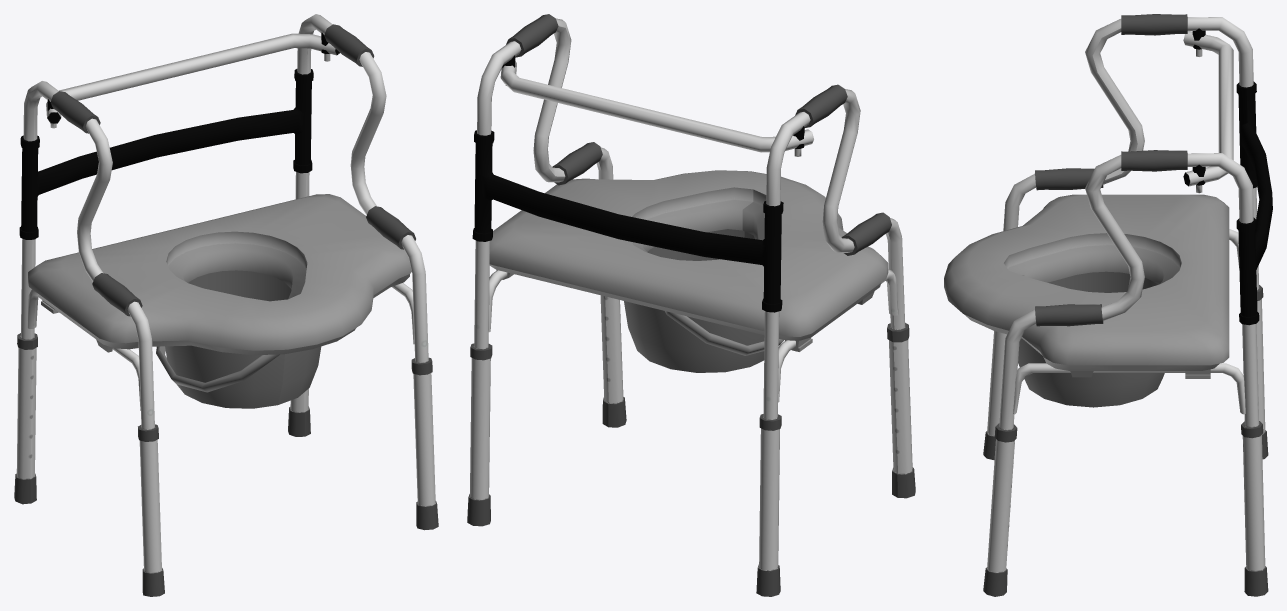
The model's file is bedside-commode.glb.
3 views of the same model, side by side, from view 1: azimuth 30°, elevation 25°; view 2: azimuth 150°, elevation 25°; view 3: azimuth 270°, elevation 25° (orthographic). The views are drawn at different scales.
Visible parts, largest first — view 1: SM_MobilityAssistCommode; view 2: SM_MobilityAssistCommode; view 3: SM_MobilityAssistCommode.
Part boxes in pixels (x1,y1,x2,y2): SM_MobilityAssistCommode: (14,14,438,596); SM_MobilityAssistCommode: (467,14,915,596); SM_MobilityAssistCommode: (944,14,1272,596).
Size of the model in its own units: 57.47 by 75.76 by 51.12.
Materials: 2 (2 with a texture image).
